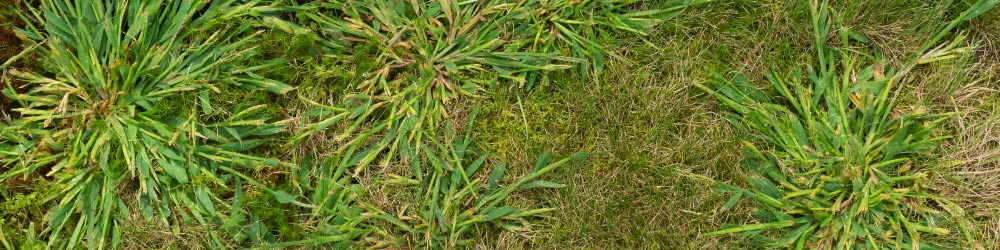crabgrass: (7, 5, 274, 220), (721, 50, 964, 243), (302, 7, 578, 117), (376, 160, 541, 246)
